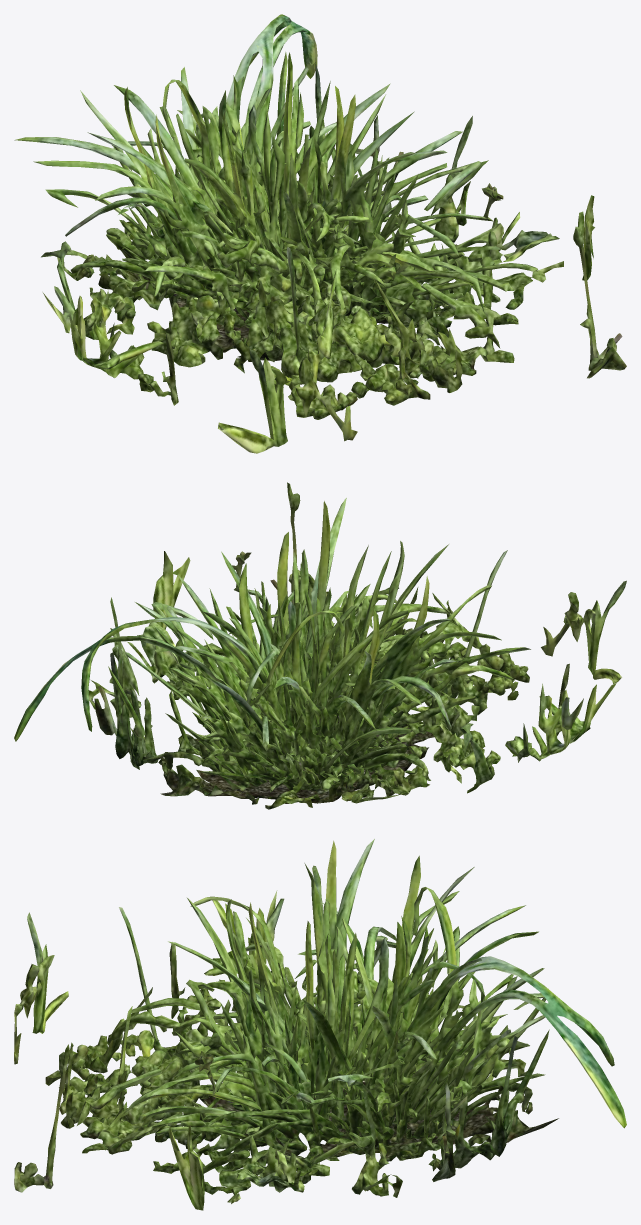
File: reeds.glb
3 renders of one model, top to bottom at view 1: azimuth 30°, elevation 25°; view 2: azimuth 150°, elevation 25°; view 3: azimuth 270°, elevation 25°, orthographic. The views are drawn at different scales.
Visible parts, largest first — view 1: geometry_0; view 2: geometry_0; view 3: geometry_0.
Part boxes in pixels (box(x1,y1,x2,y2)): geometry_0: box(14, 14, 626, 453); geometry_0: box(14, 482, 626, 809); geometry_0: box(14, 839, 626, 1210).
Size of the model in its own units: 0.9004 by 0.4074 by 0.9519.
1 material, 1 textured.
